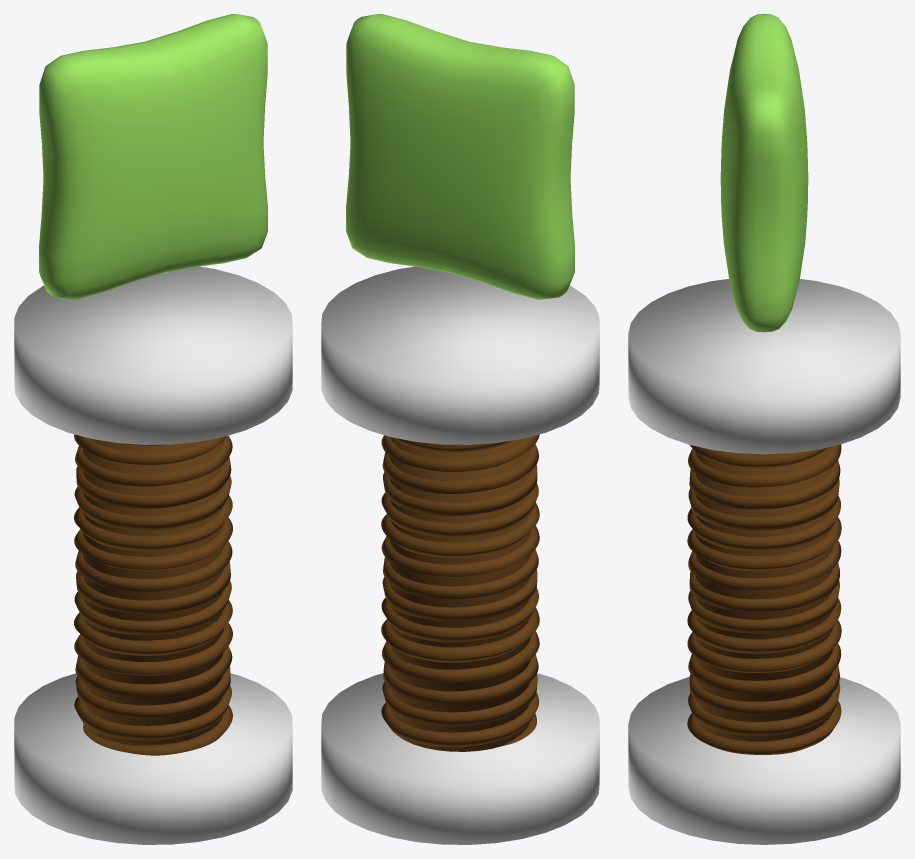
Rendered from tower_pillow_f.fbx.
The picture shows the model from 3 angles, left to right: view 1: azimuth 30°, elevation 25°; view 2: azimuth 150°, elevation 25°; view 3: azimuth 270°, elevation 25°; orthographic projection. The views are drawn at different scales.
Visible parts, largest first — view 1: Cube, Circle.001, SpiroFit, Circle, Cylinder; view 2: Cube, Circle.001, SpiroFit, Circle, Cylinder; view 3: Circle.001, SpiroFit, Circle, Cube, Cylinder.
Part boxes in pixels (left/top/right/bottom): Cube: left=39, top=14, right=267, bottom=299; Circle.001: left=14, top=266, right=292, bottom=444; SpiroFit: left=74, top=434, right=232, bottom=755; Circle: left=14, top=673, right=292, bottom=844; Cylinder: left=83, top=438, right=223, bottom=745; Cube: left=346, top=14, right=574, bottom=299; Circle.001: left=321, top=266, right=599, bottom=444; SpiroFit: left=381, top=434, right=539, bottom=751; Circle: left=321, top=673, right=599, bottom=844; Cylinder: left=390, top=437, right=530, bottom=751; Circle.001: left=628, top=279, right=900, bottom=454; SpiroFit: left=687, top=444, right=841, bottom=754; Circle: left=628, top=677, right=900, bottom=844; Cube: left=720, top=14, right=808, bottom=332; Cylinder: left=695, top=446, right=832, bottom=745.
Size of the model in its own units: 250 by 739 by 250.
